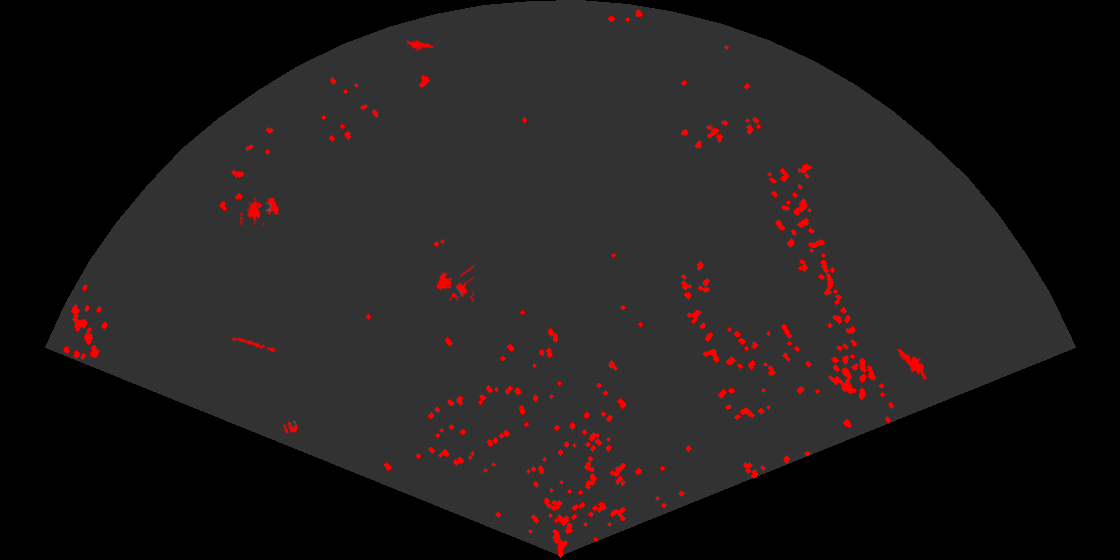ball: (281, 419, 300, 436)
cage: (434, 263, 474, 304), (240, 196, 281, 225)
chain: (230, 336, 278, 354)
frogman: (895, 341, 928, 379), (407, 38, 434, 53)
